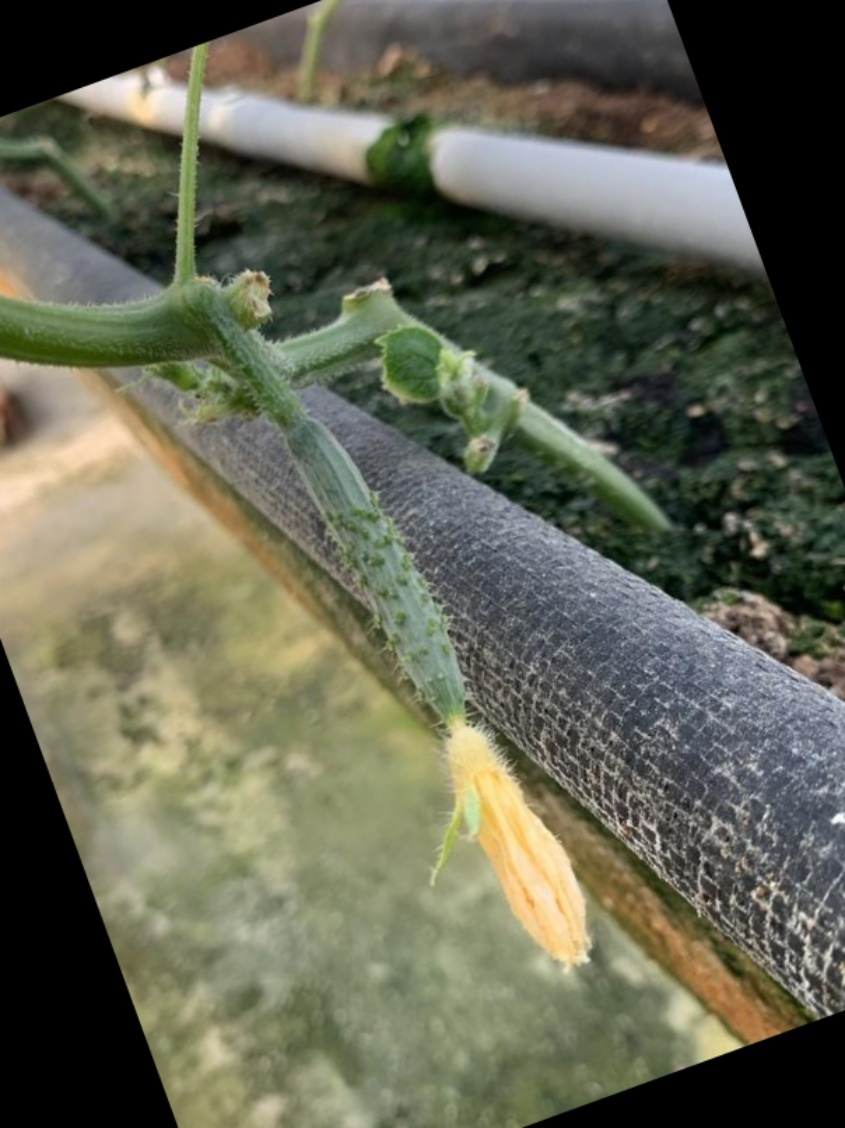bear: (239, 372, 590, 964)
